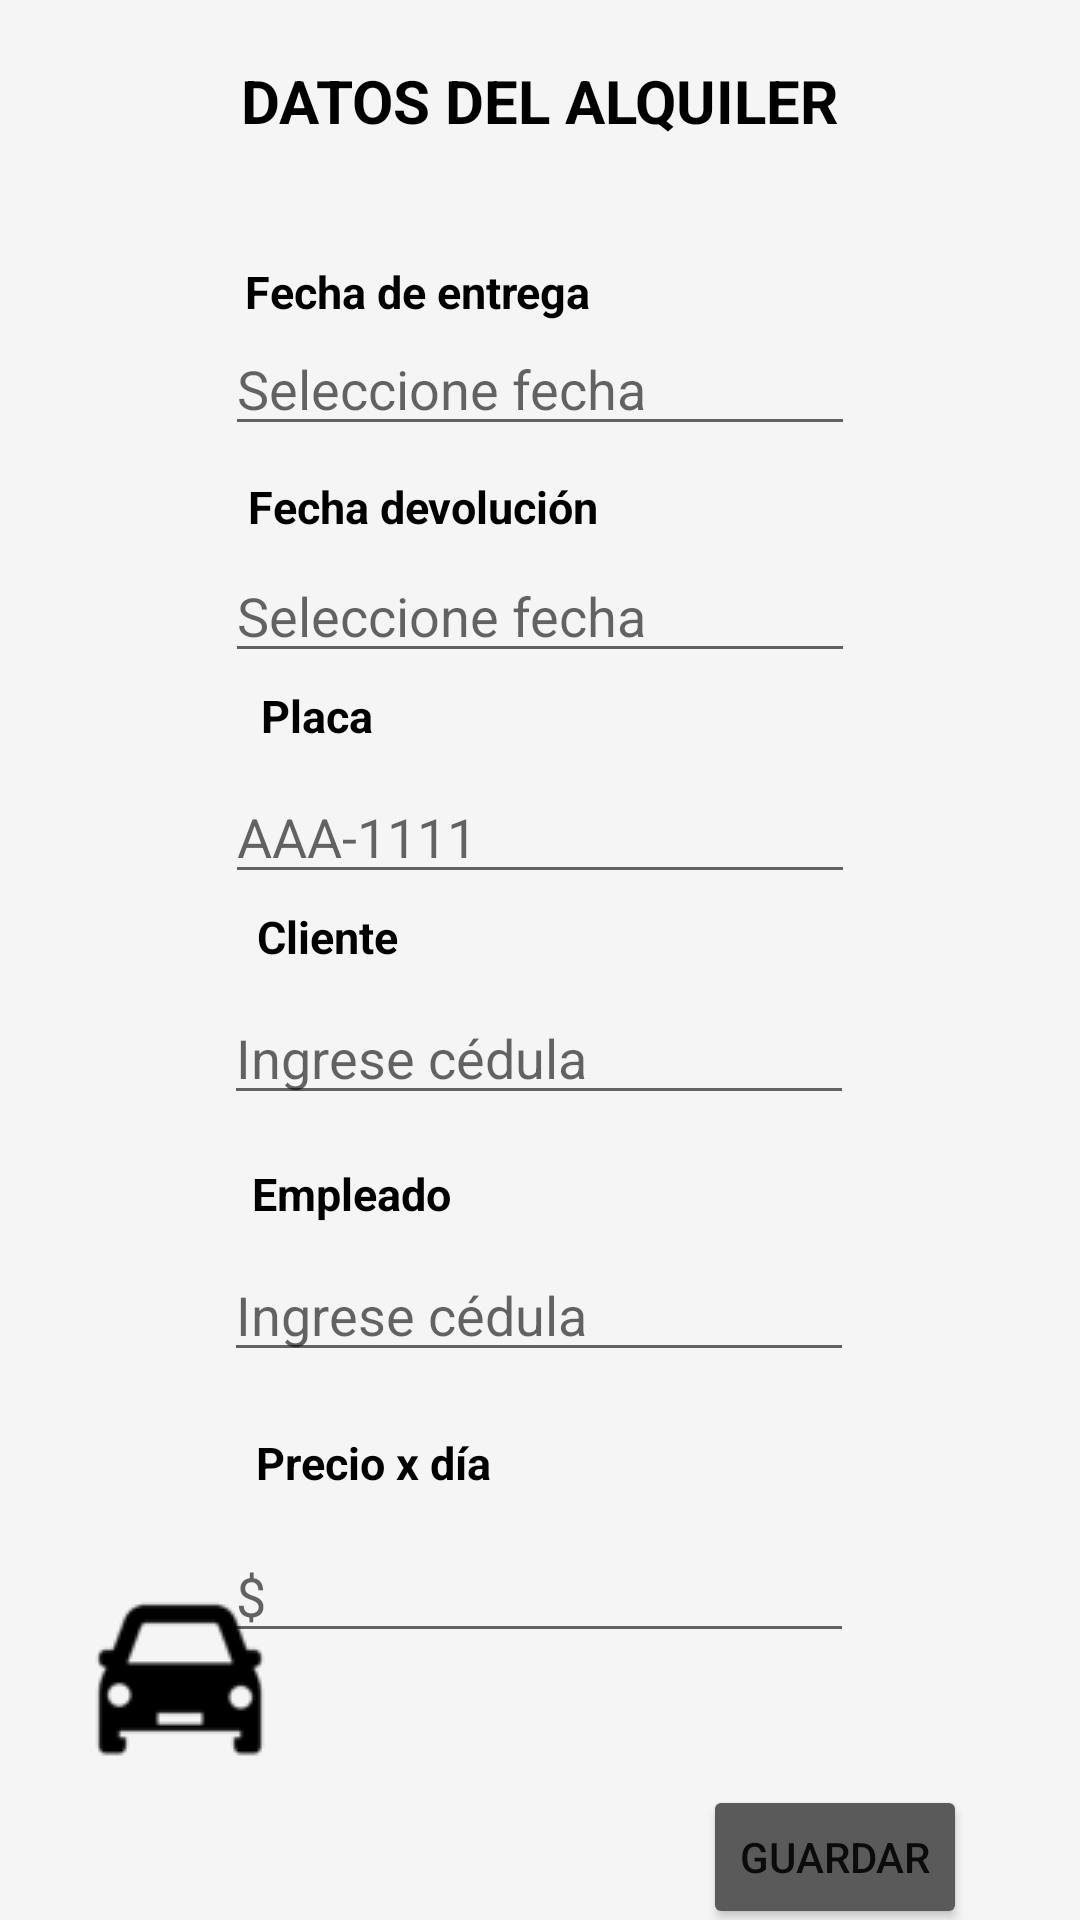

Icon bounding boxes for this 1080px x 1920px phone screenshot, format {"x1": x1, "y1": y1, "x2": x2, "y2": y2}:
car: {"x1": 97, "y1": 1572, "x2": 288, "y2": 1756}
